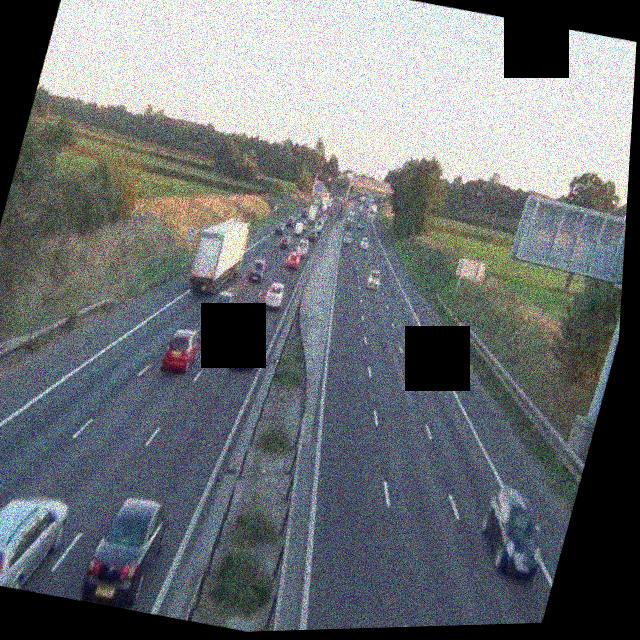car: (77, 490, 172, 614), (0, 479, 72, 596), (470, 483, 555, 582), (158, 324, 204, 377), (227, 324, 265, 371), (207, 287, 238, 324), (261, 280, 285, 311), (247, 256, 269, 283), (364, 269, 383, 292), (286, 246, 304, 268), (274, 232, 290, 251), (359, 233, 373, 250), (273, 220, 287, 237), (306, 228, 320, 244), (341, 230, 354, 245), (344, 215, 354, 227)
truck: (184, 212, 253, 300), (365, 199, 378, 220)
